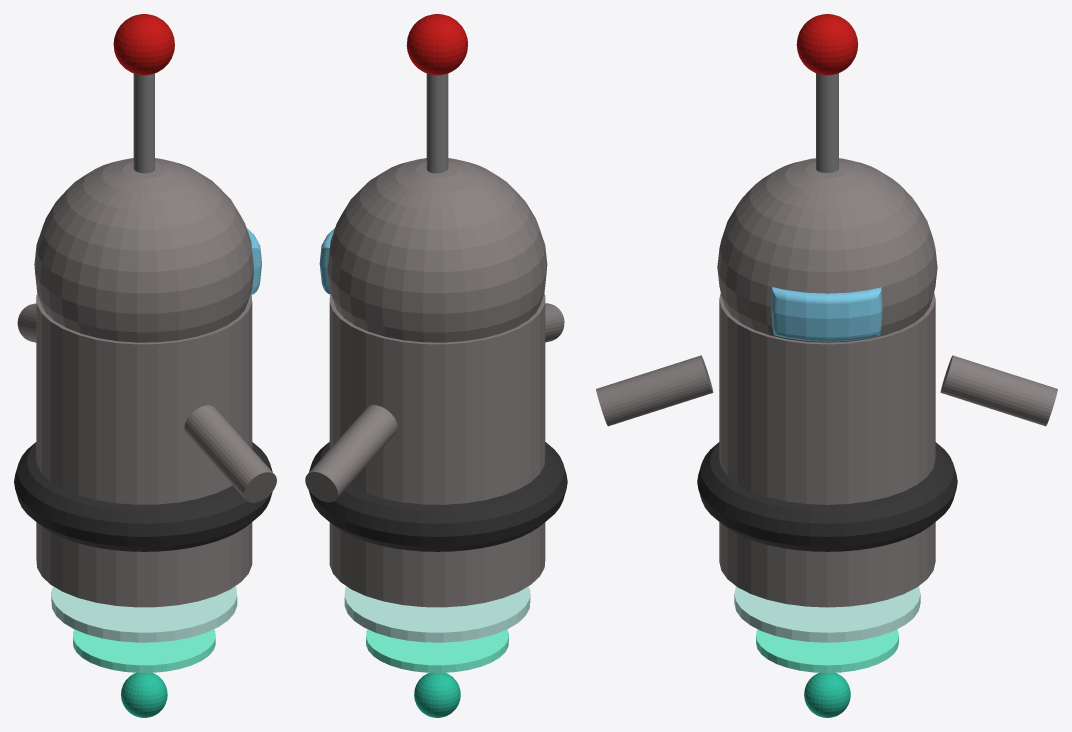
File: botfofo.fbx
3 views of the same model, side by side, from view 1: azimuth 30°, elevation 25°; view 2: azimuth 150°, elevation 25°; view 3: azimuth 270°, elevation 25° (orthographic).
Visible parts, largest first — view 1: body_base1, head, body_base2, leg_1, arm_L, leg_2, Sphere, antena, leg_3, arm_R; view 2: body_base1, head, body_base2, leg_1, arm_R, leg_2, Sphere, antena, leg_3, arm_L; view 3: body_base1, head, body_base2, leg_1, arm_L, arm_R, leg_2, Sphere, antena, leg_3.
Part boxes in pixels (x1=…): body_base1: x1=36, y1=293, x2=252, y2=607; head: x1=34, y1=158, x2=261, y2=342; body_base2: x1=14, y1=442, x2=272, y2=551; leg_1: x1=51, y1=586, x2=237, y2=642; arm_L: x1=184, y1=405, x2=276, y2=502; leg_2: x1=73, y1=629, x2=215, y2=672; Sphere: x1=113, y1=14, x2=174, y2=75; antena: x1=133, y1=73, x2=154, y2=173; leg_3: x1=121, y1=672, x2=167, y2=717; arm_R: x1=17, y1=303, x2=36, y2=342; body_base1: x1=329, y1=294, x2=545, y2=607; head: x1=319, y1=158, x2=547, y2=342; body_base2: x1=308, y1=442, x2=567, y2=551; leg_1: x1=344, y1=586, x2=530, y2=642; arm_R: x1=305, y1=405, x2=397, y2=502; leg_2: x1=366, y1=629, x2=508, y2=672; Sphere: x1=406, y1=14, x2=467, y2=75; antena: x1=426, y1=73, x2=448, y2=173; leg_3: x1=414, y1=672, x2=460, y2=717; arm_L: x1=545, y1=303, x2=564, y2=342; body_base1: x1=719, y1=292, x2=935, y2=607; head: x1=717, y1=158, x2=937, y2=342; body_base2: x1=697, y1=442, x2=957, y2=551; leg_1: x1=734, y1=586, x2=920, y2=642; arm_L: x1=596, y1=355, x2=713, y2=426; arm_R: x1=940, y1=355, x2=1057, y2=426; leg_2: x1=756, y1=629, x2=898, y2=672; Sphere: x1=796, y1=14, x2=858, y2=75; antena: x1=816, y1=73, x2=838, y2=172; leg_3: x1=804, y1=672, x2=850, y2=717.
Size of the model in its own units: 471 by 1395 by 835.
